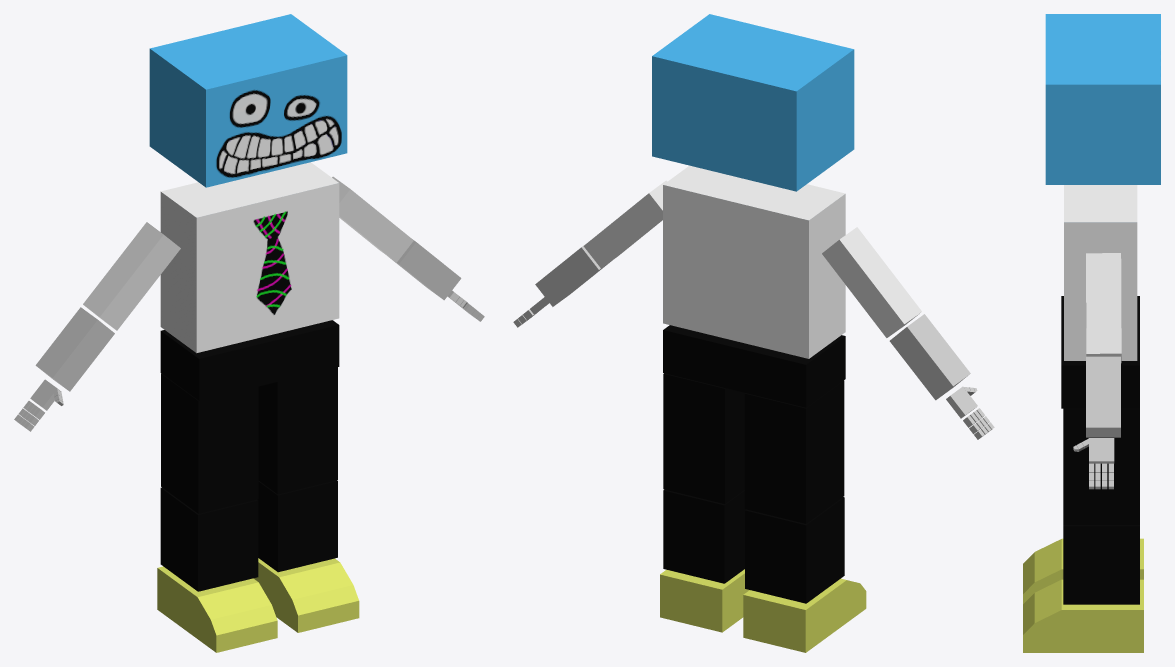
The model's file is PolyBot12.fbx.
The picture shows the model from 3 angles, left to right: view 1: azimuth 30°, elevation 25°; view 2: azimuth 150°, elevation 25°; view 3: azimuth 270°, elevation 25°; orthographic projection. The views are drawn at different scales.
Parts seen in each view (by area): view 1: Cube.008, Cube.003, Cube.051, Cube.048, Cube.011, Cube.050, Cube.049, Cube.047, Cube.002, Cube.032, Cube.030, Cube.013 (+1 smaller); view 2: Cube.008, Cube.003, Cube.051, Cube.048, Cube.011, Cube.050, Cube.047, Cube.049, Cube.032, Cube.002, Cube.030, Cube.013 (+1 smaller); view 3: Cube.003, Cube.008, Cube.048, Cube.002, Cube.047, Cube.013, Cube.001, Cube.011, Cube.049, Cube.012.
Boxes of the visible parts, box(x1,y1,x2,y2) form: Cube.008: box(160, 162, 339, 353); Cube.003: box(149, 14, 347, 187); Cube.051: box(161, 373, 258, 513); Cube.048: box(258, 367, 337, 494); Cube.011: box(160, 320, 339, 400); Cube.050: box(160, 487, 258, 591); Cube.049: box(157, 566, 277, 652); Cube.047: box(257, 480, 337, 572); Cube.002: box(253, 558, 359, 632); Cube.032: box(83, 222, 180, 330); Cube.030: box(35, 307, 114, 391); Cube.013: box(332, 176, 413, 262); Cube.008: box(663, 165, 845, 358); Cube.003: box(652, 14, 854, 191); Cube.051: box(744, 380, 844, 523); Cube.048: box(663, 373, 744, 503); Cube.011: box(663, 325, 845, 407); Cube.050: box(745, 497, 844, 603); Cube.047: box(663, 489, 745, 583); Cube.049: box(743, 578, 866, 652); Cube.032: box(822, 227, 921, 337); Cube.002: box(660, 569, 749, 632); Cube.030: box(889, 314, 970, 400); Cube.013: box(583, 180, 667, 268); Cube.003: box(1045, 14, 1160, 184); Cube.008: box(1064, 185, 1137, 360); Cube.048: box(1063, 408, 1139, 524); Cube.002: box(1023, 579, 1143, 652); Cube.047: box(1063, 525, 1139, 604); Cube.013: box(1086, 253, 1121, 363); Cube.001: box(1086, 356, 1120, 437); Cube.011: box(1061, 296, 1139, 408); Cube.049: box(1023, 538, 1143, 603); Cube.012: box(1089, 438, 1114, 463).
Bounding box in the file's own units: 141 × 163 × 35.92.
